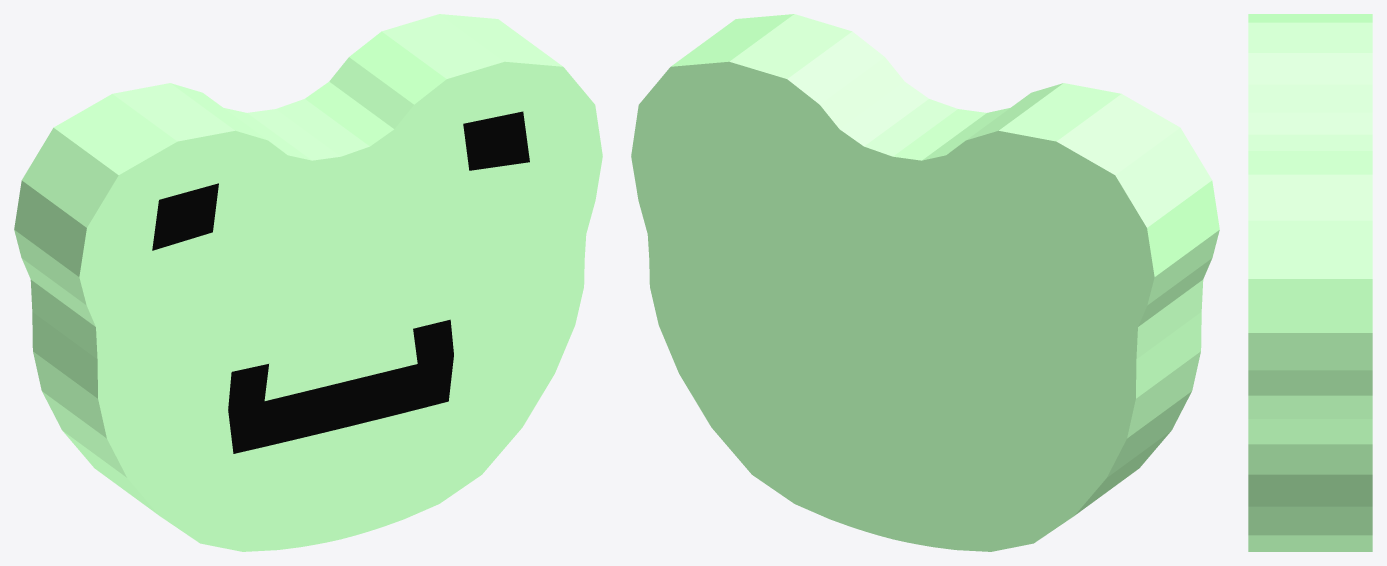
File: greenFrogButton.gltf
The picture shows the model from 3 angles, left to right: view 1: azimuth 30°, elevation 25°; view 2: azimuth 150°, elevation 25°; view 3: azimuth 270°, elevation 25°; orthographic projection. The views are drawn at different scales.
Visible parts, largest first — view 1: GreenFrogButton; view 2: GreenFrogButton; view 3: GreenFrogButton.
Boxes of the visible parts, <box> form: GreenFrogButton: <box>14,14,602,551</box>; GreenFrogButton: <box>631,14,1219,551</box>; GreenFrogButton: <box>1248,14,1372,551</box>.
Size of what is drawn, in the model's own units: 1.92 by 1.54 by 0.4152.
